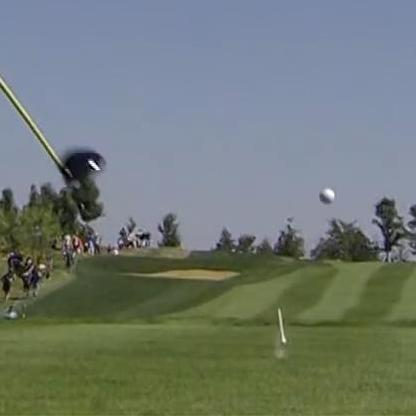golfball: (316, 184, 334, 204)
